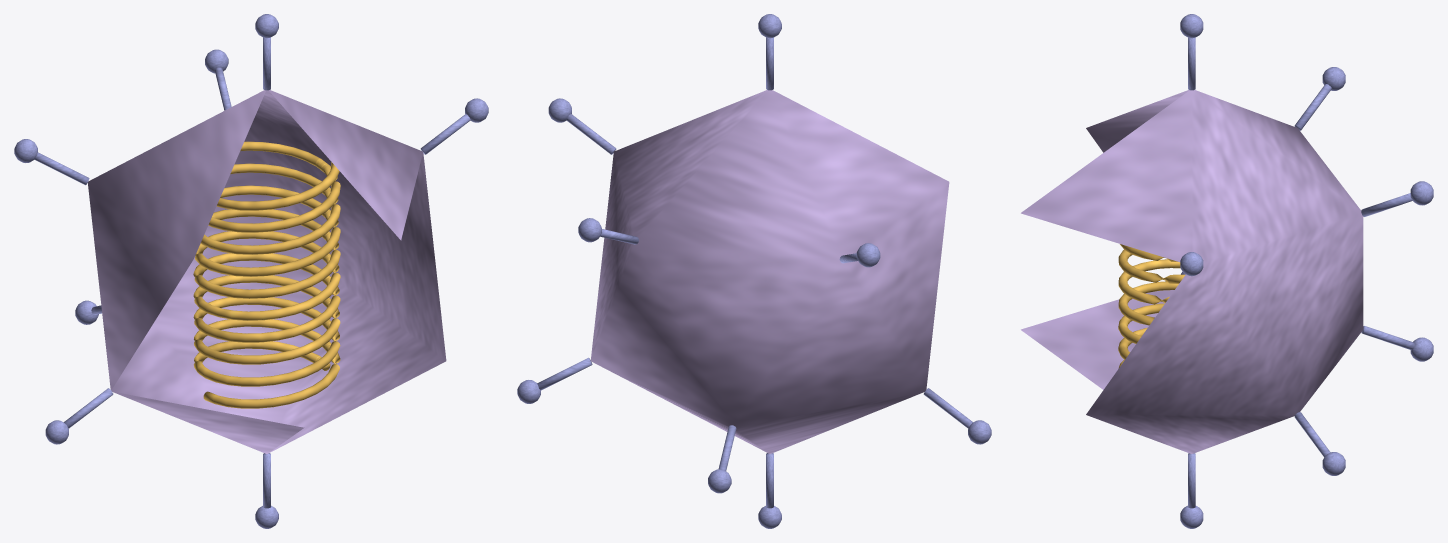
File: cutaway.glb
3 views of the same model, side by side, from view 1: azimuth 30°, elevation 25°; view 2: azimuth 150°, elevation 25°; view 3: azimuth 270°, elevation 25° (orthographic).
Visible parts, largest first — view 1: capsideo_mesh, genoma_mesh, fibras_mesh; view 2: capsideo_mesh, fibras_mesh; view 3: capsideo_mesh, fibras_mesh, genoma_mesh.
Boxes of the visible parts, x1,y1,x2,y2 form: capsideo_mesh: (87, 90, 446, 453); genoma_mesh: (193, 141, 340, 408); fibras_mesh: (14, 14, 488, 528); capsideo_mesh: (590, 90, 949, 453); fibras_mesh: (517, 14, 991, 528); capsideo_mesh: (1021, 90, 1363, 453); fibras_mesh: (1180, 14, 1433, 528); genoma_mesh: (1118, 244, 1185, 368).
Bounding box in the file's own units: 2.72 × 3.03 × 2.21.
Materials: 3 (3 with a texture image).
